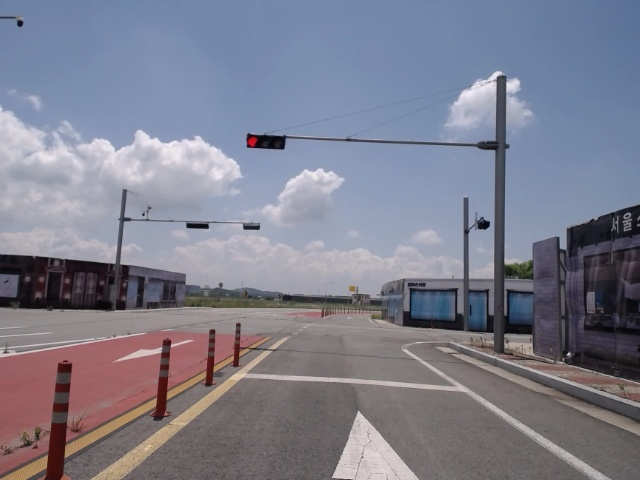red_3: (244, 135, 287, 149)
